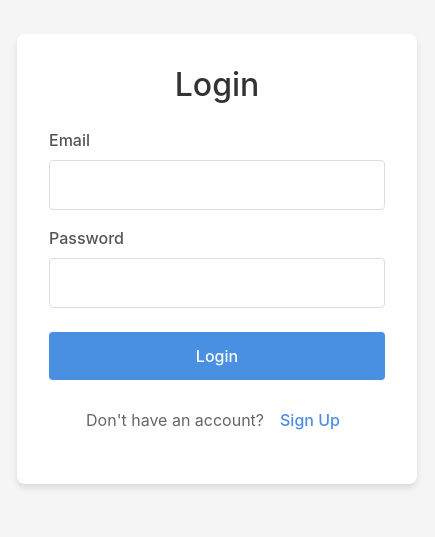
Test: Login Component › displays error message when signup fails
# Switch to signup mode
Click the button "Sign Up": (310,420) [272,404,348,436]
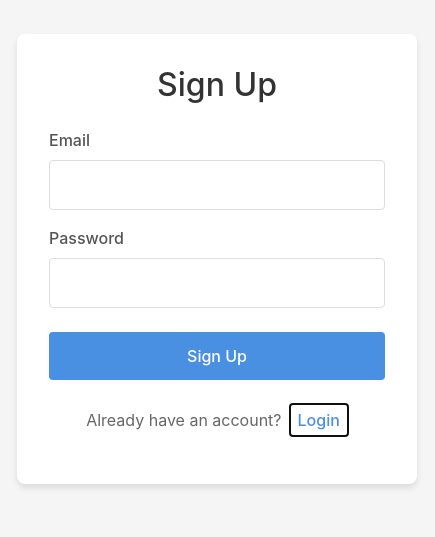
# Fill in the form
In the field labelled "Email": (217,185) [49,160,385,210], type "existing@example.com"
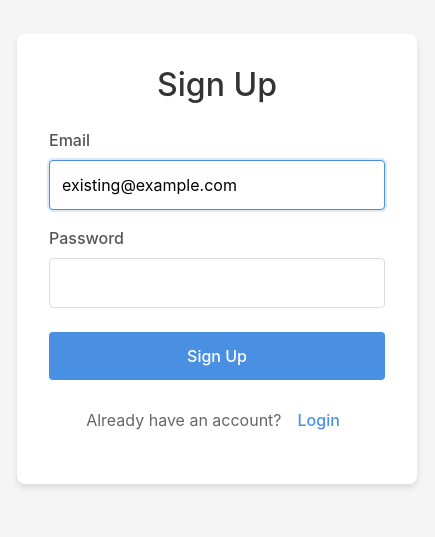
In the password field labelled "Password": (217,283) [49,258,385,308], type "password123"
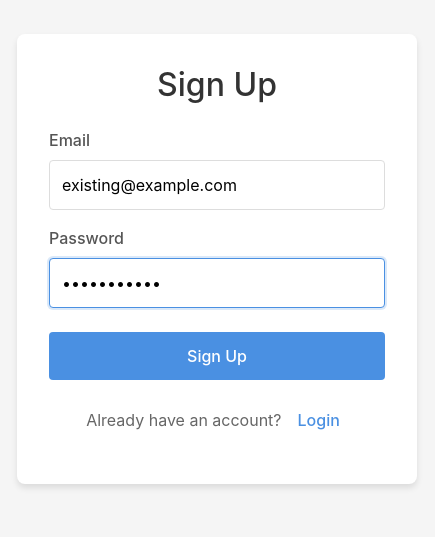
# Submit the form
Click the button "Sign Up": (217,356) [49,332,385,380]
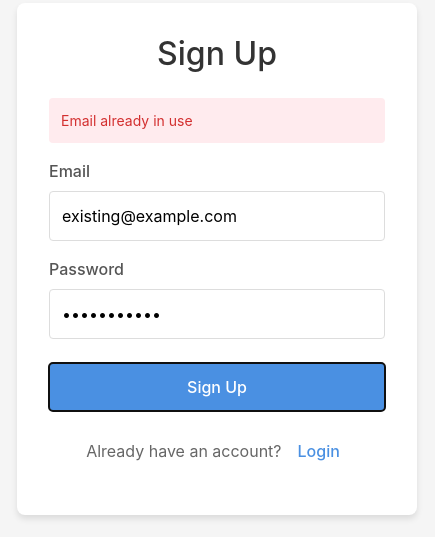
Result: the text "Email already in use" is shown at [49,98,385,143]
